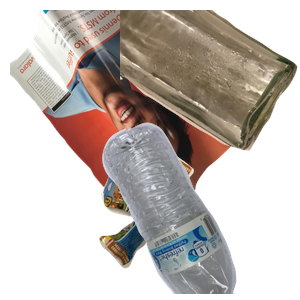glass: (120, 10, 300, 153)
paper: (10, 10, 250, 190)
plastic: (100, 120, 300, 300)
trash: (97, 151, 283, 300)
